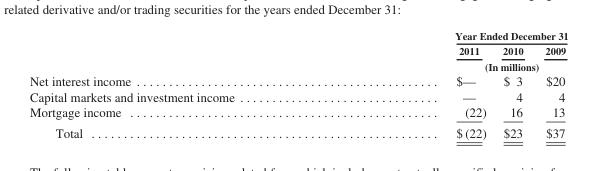table: (28, 29, 567, 139)
table column: (28, 29, 344, 139), (344, 29, 493, 139), (493, 29, 533, 139), (533, 29, 567, 139)
table column header: (28, 29, 567, 72)
table row: (28, 104, 567, 122), (28, 122, 567, 139), (28, 42, 567, 58), (28, 72, 567, 88), (28, 88, 567, 104), (28, 58, 567, 72), (28, 29, 567, 42)
table spanning cell: (344, 58, 567, 72), (344, 29, 567, 42)
